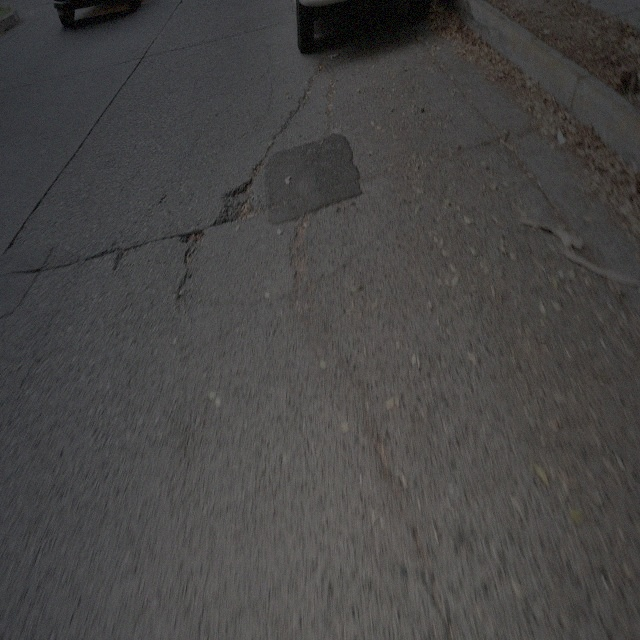pothole: (211, 162, 262, 230), (281, 210, 311, 308), (178, 226, 207, 306)
